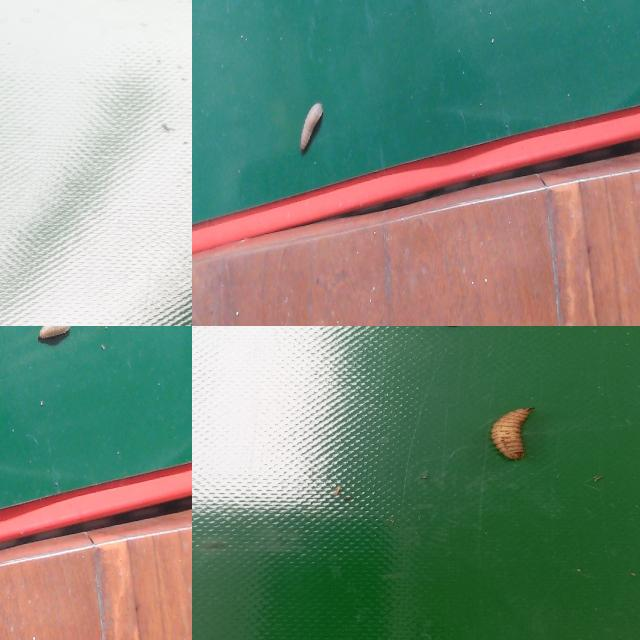Maggot: (488, 408, 532, 462), (296, 104, 323, 155), (38, 326, 71, 346)
